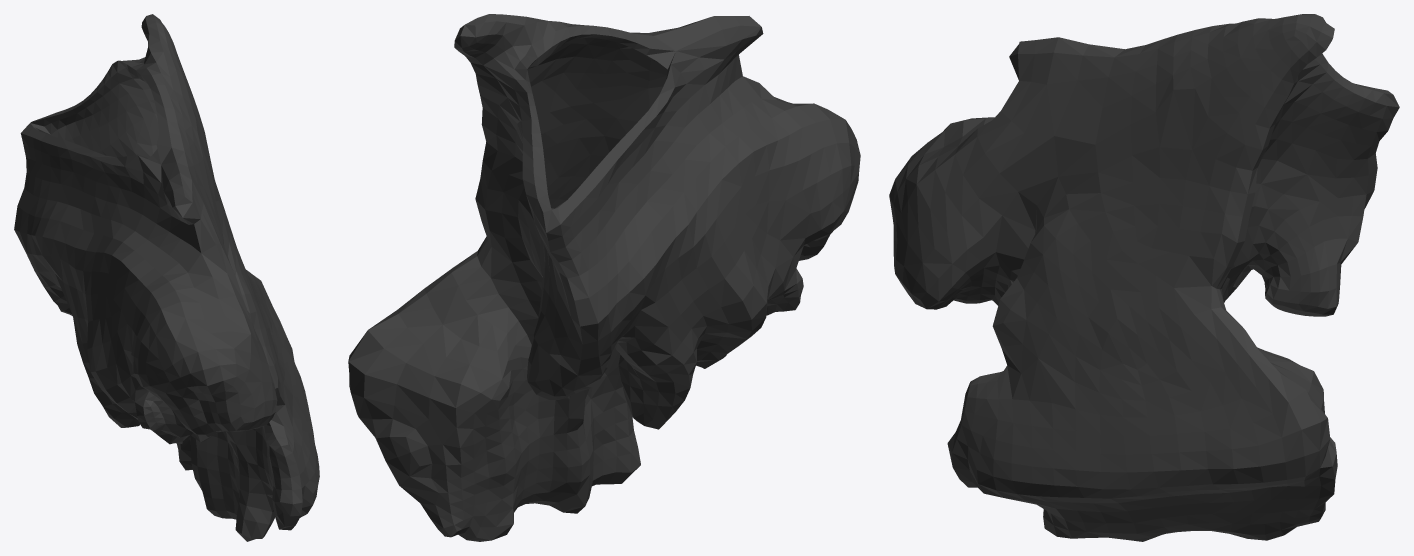
Rendered from L_maxillary_sinus_rostral.glb.
3 renders of one model, left to right at view 1: azimuth 30°, elevation 25°; view 2: azimuth 150°, elevation 25°; view 3: azimuth 270°, elevation 25°, orthographic. The views are drawn at different scales.
Parts seen in each view (by area): view 1: L_maxillary_sinus_rostral; view 2: L_maxillary_sinus_rostral; view 3: L_maxillary_sinus_rostral.
Boxes of the visible parts, box(x1,y1,x2,y2) form: L_maxillary_sinus_rostral: box(14, 14, 319, 541); L_maxillary_sinus_rostral: box(348, 14, 860, 541); L_maxillary_sinus_rostral: box(889, 14, 1399, 541).
Size of the model in its own units: 54.15 by 87.36 by 77.09.
Materials: 1 (1 with a texture image).
